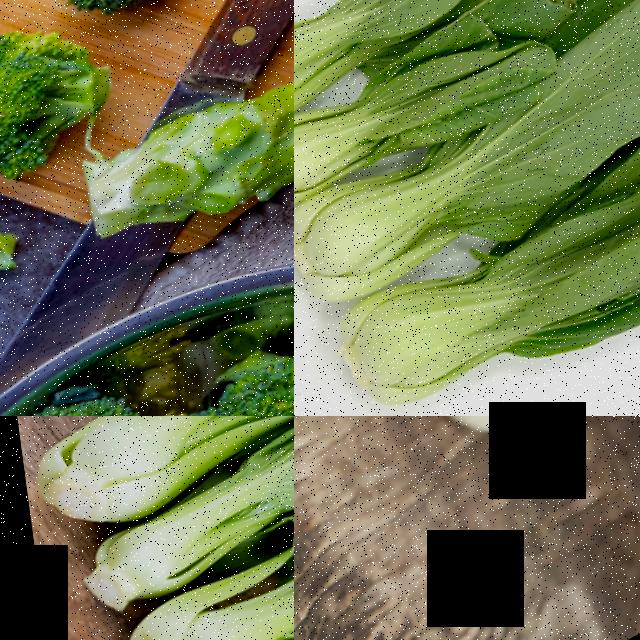bok choy: (294, 2, 640, 347), (294, 121, 640, 416), (294, 0, 572, 228), (37, 416, 294, 631), (294, 0, 571, 148), (71, 466, 294, 640), (0, 416, 294, 547), (378, 416, 640, 480)
broccoli: (0, 0, 126, 218), (112, 327, 294, 416), (24, 0, 249, 71)
